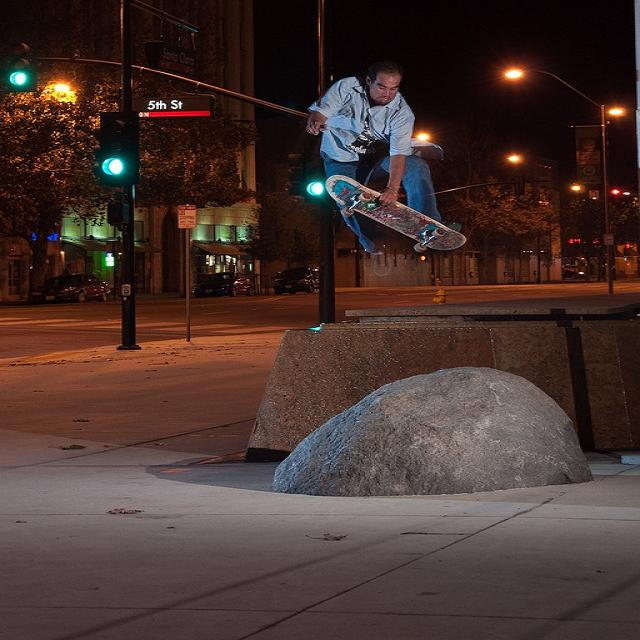Vehicle: (30, 273, 109, 305), (271, 266, 319, 297)
